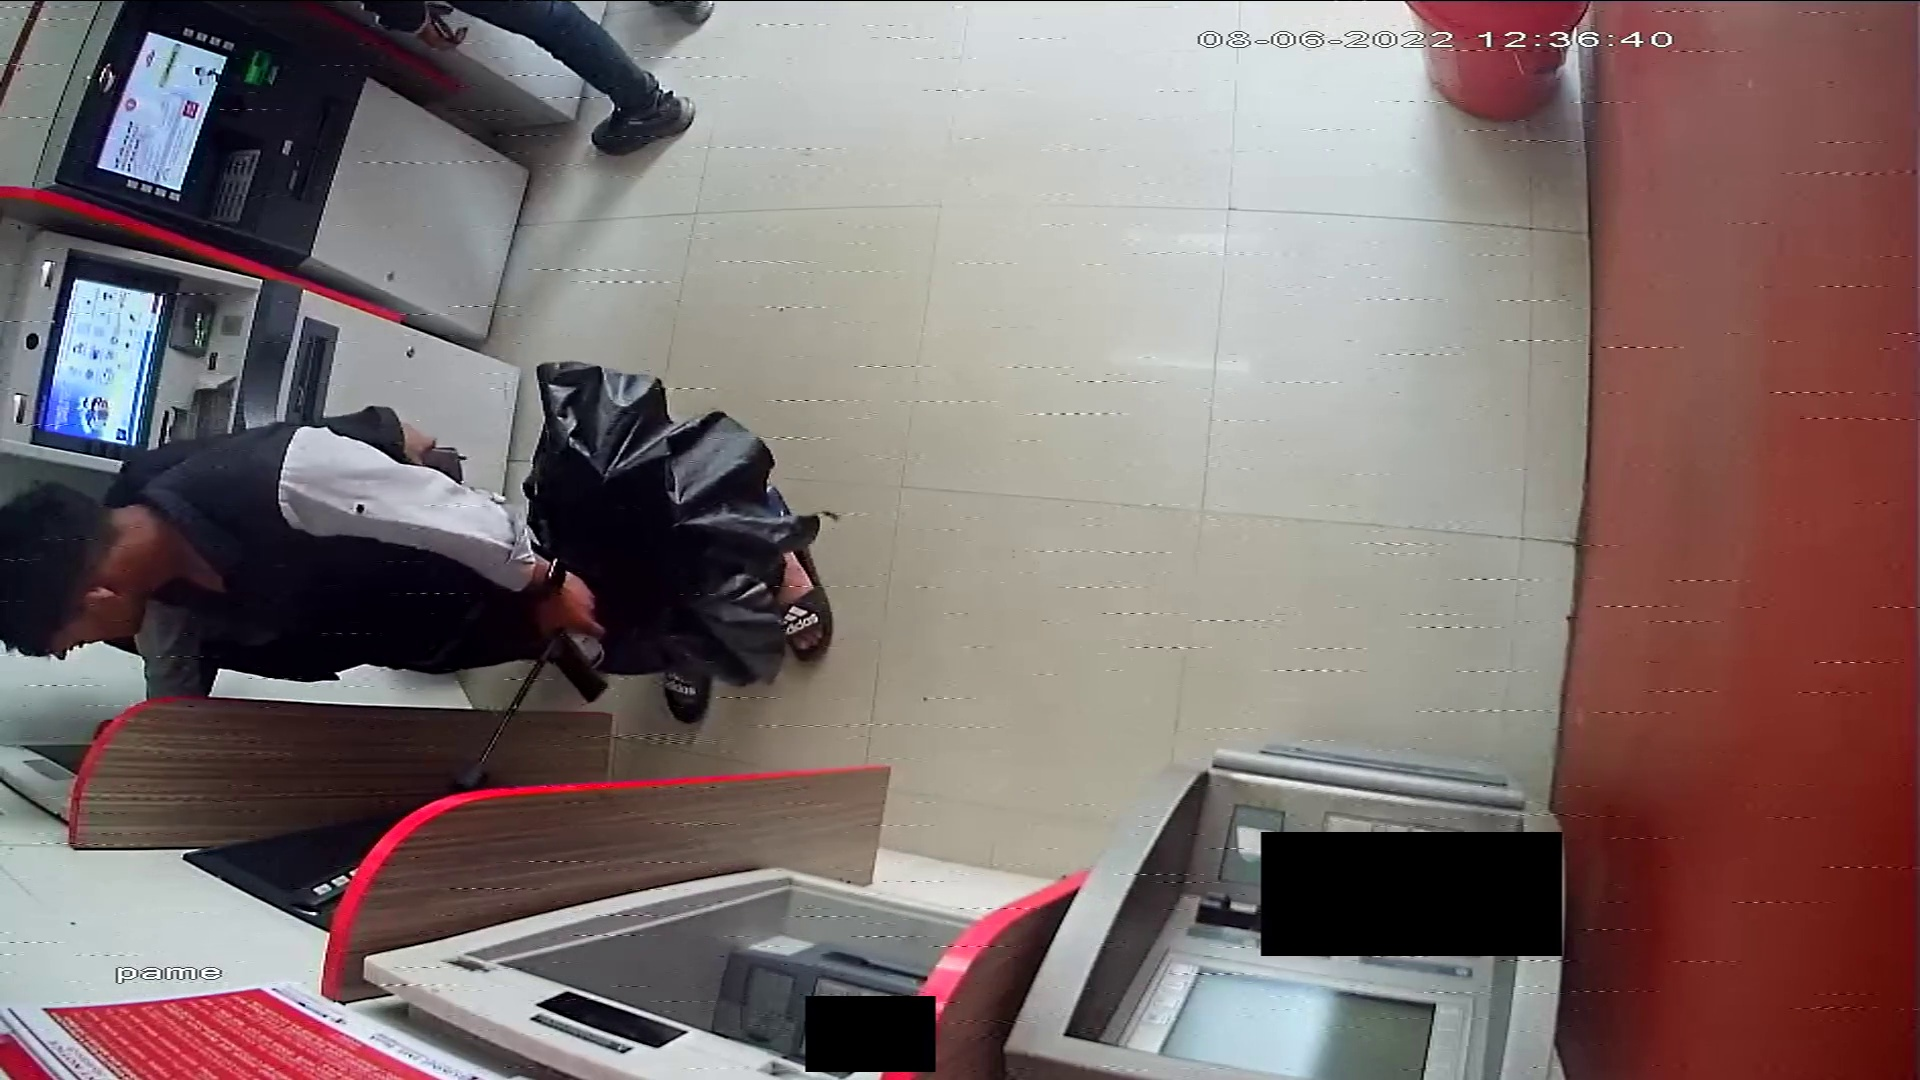person: (1, 401, 841, 695)
